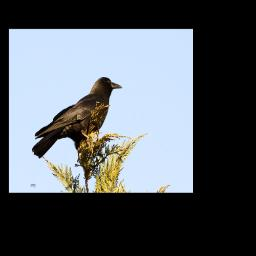Crow: (32, 74, 124, 162)
